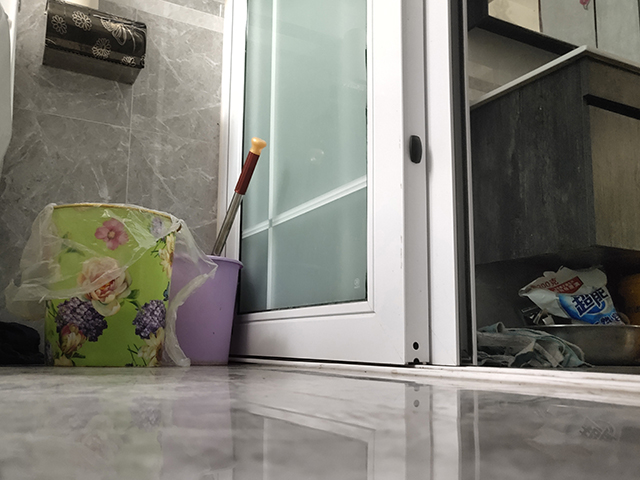trashcan: (40, 200, 184, 370)
